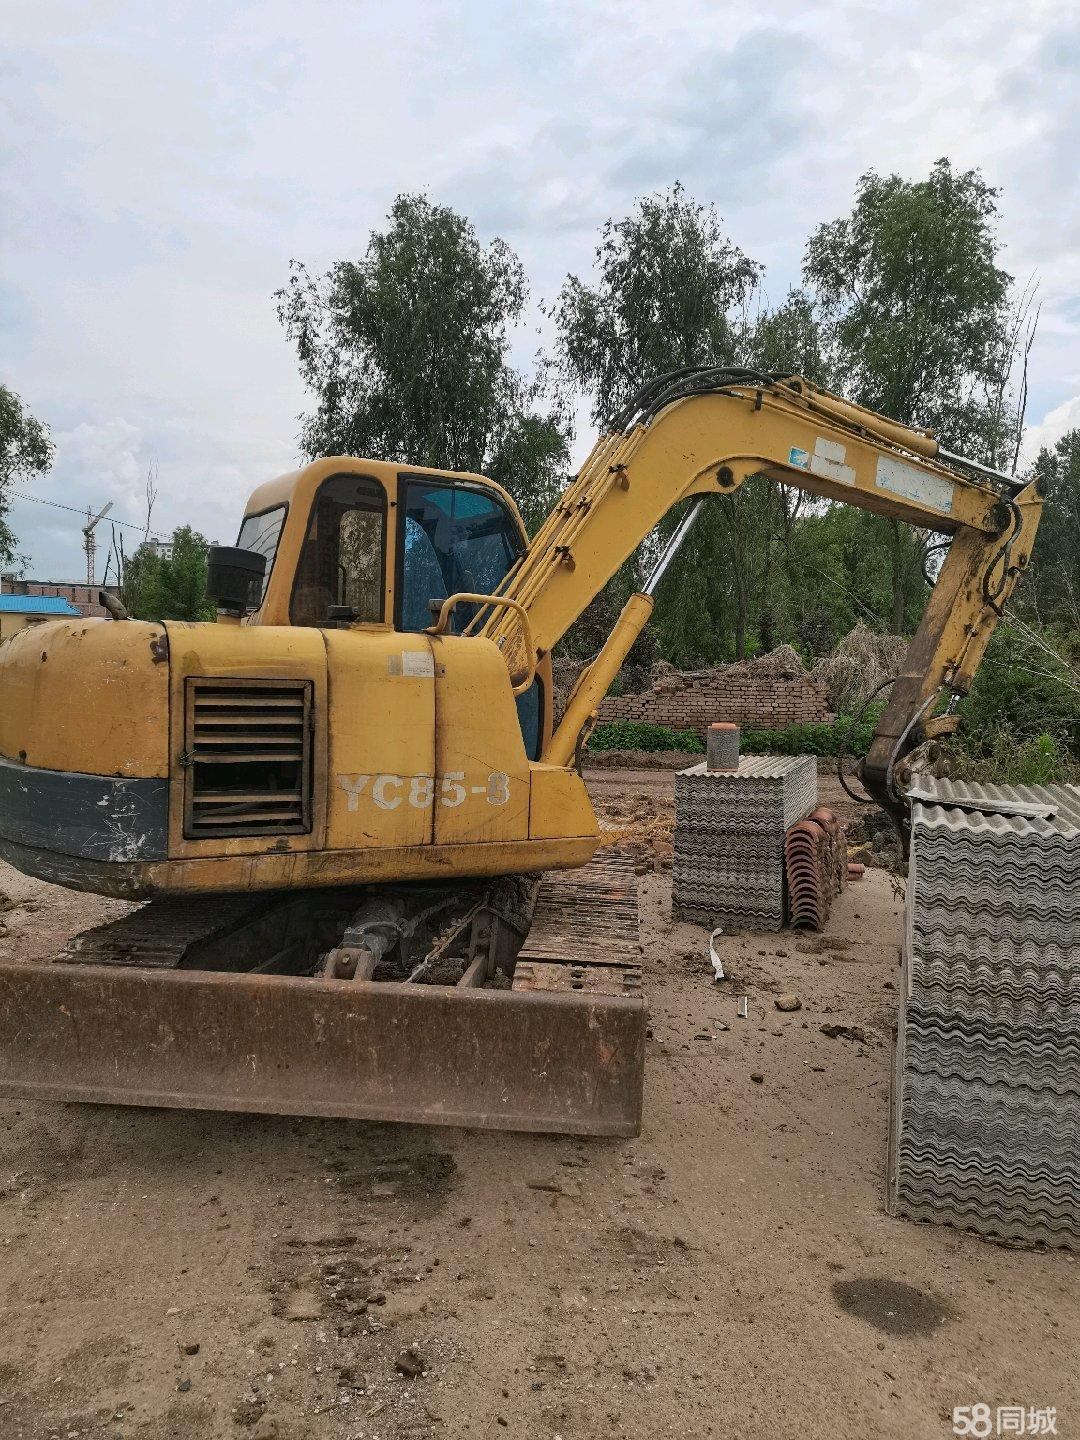excavator: (1, 386, 1070, 1179)
